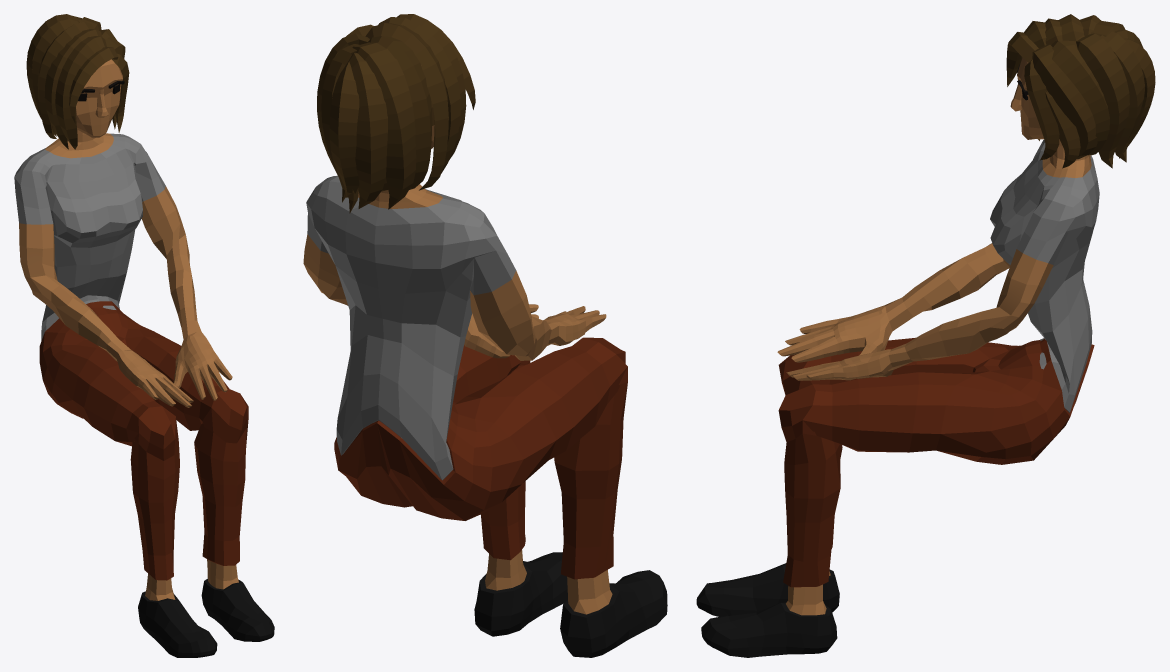
File: w_casual.obj
3 views of the same model, side by side, from view 1: azimuth 30°, elevation 25°; view 2: azimuth 150°, elevation 25°; view 3: azimuth 270°, elevation 25° (orthographic). The views are drawn at different scales.
Parts seen in each view (by area): view 1: Casual_Body, Casual_Legs, Casual_Head, Casual_Feet; view 2: Casual_Body, Casual_Legs, Casual_Head, Casual_Feet; view 3: Casual_Legs, Casual_Body, Casual_Head, Casual_Feet.
Part boxes in pixels (x1,y1,x2,y2): Casual_Body: (14, 133, 232, 407); Casual_Legs: (39, 301, 248, 580); Casual_Head: (26, 14, 129, 149); Casual_Feet: (138, 559, 274, 657); Casual_Body: (303, 175, 606, 480); Casual_Legs: (334, 337, 627, 579); Casual_Head: (317, 14, 475, 213); Casual_Feet: (474, 550, 667, 657); Casual_Legs: (778, 337, 1094, 587); Casual_Body: (777, 140, 1099, 412); Casual_Head: (1006, 14, 1155, 168); Casual_Feet: (696, 563, 839, 657).
Size of the model in its own units: 0.4579 by 1.41 by 0.9605.
